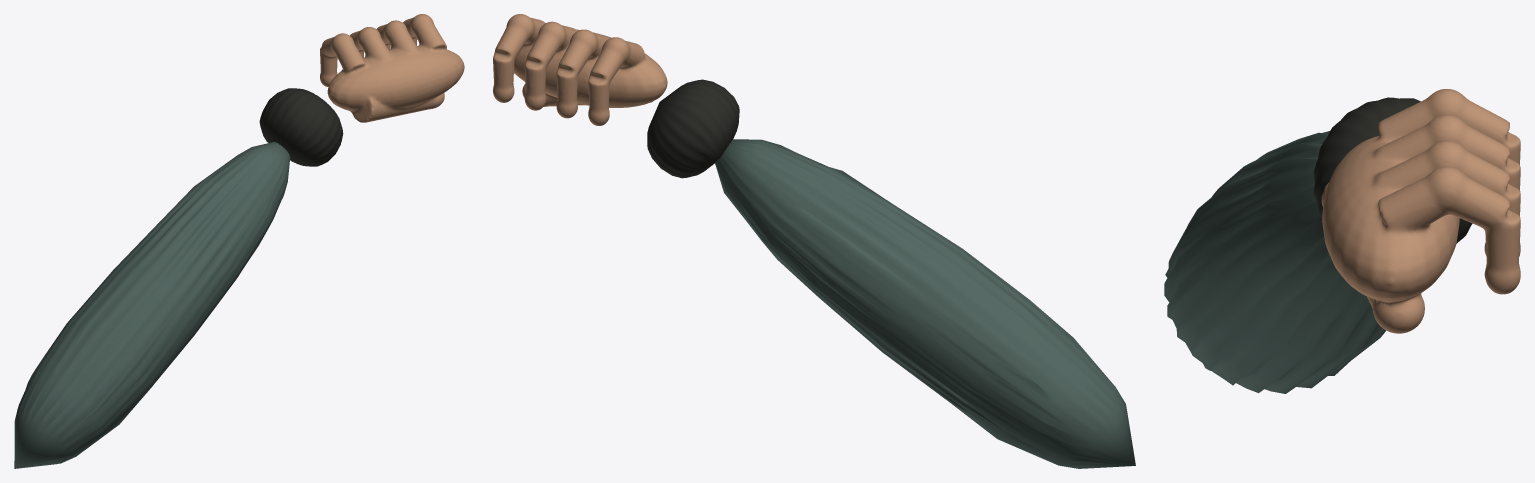
The model's file is SM_LeftArm.fbx.
The picture shows the model from 3 angles, left to right: view 1: azimuth 30°, elevation 25°; view 2: azimuth 150°, elevation 25°; view 3: azimuth 270°, elevation 25°; orthographic projection. The views are drawn at different scales.
Visible parts, largest first — view 1: SM_LeftArm; view 2: SM_LeftArm; view 3: SM_LeftArm.
Part boxes in pixels (box(x1,y1,x2,y2)): SM_LeftArm: box(14, 14, 464, 468); SM_LeftArm: box(493, 14, 1135, 468); SM_LeftArm: box(1164, 89, 1520, 393).
Bounding box in the file's own units: 42.24 × 13.38 × 25.59.
